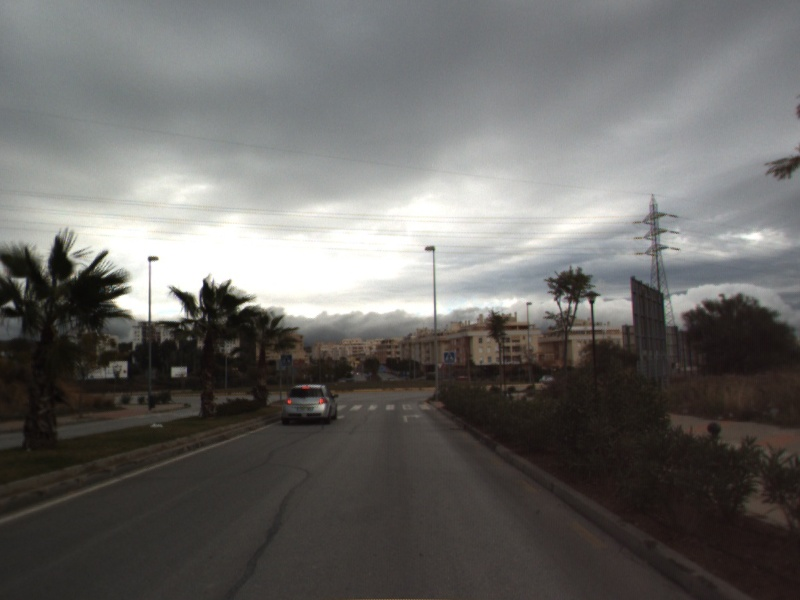RIGHT: (401, 411, 425, 424)
